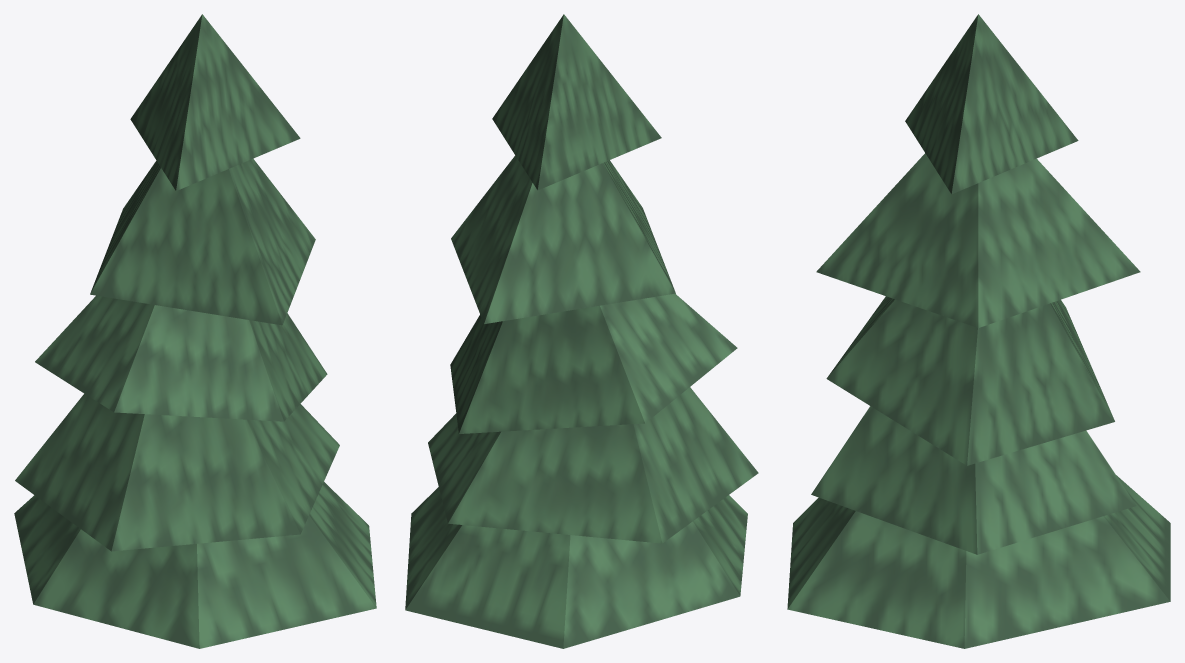
File: env_Tree_Coniferous_D.FBX
3 renders of one model, left to right at view 1: azimuth 30°, elevation 25°; view 2: azimuth 150°, elevation 25°; view 3: azimuth 270°, elevation 25°, orthographic. The views are drawn at different scales.
Visible parts, largest first — view 1: env_Tree_Coniferous_D; view 2: env_Tree_Coniferous_D; view 3: env_Tree_Coniferous_D.
Boxes of the visible parts, box(x1,y1,x2,y2) form: env_Tree_Coniferous_D: box(14, 14, 376, 648); env_Tree_Coniferous_D: box(405, 14, 758, 648); env_Tree_Coniferous_D: box(787, 14, 1170, 648).
Bounding box in the file's own units: 515 × 806 × 504.
